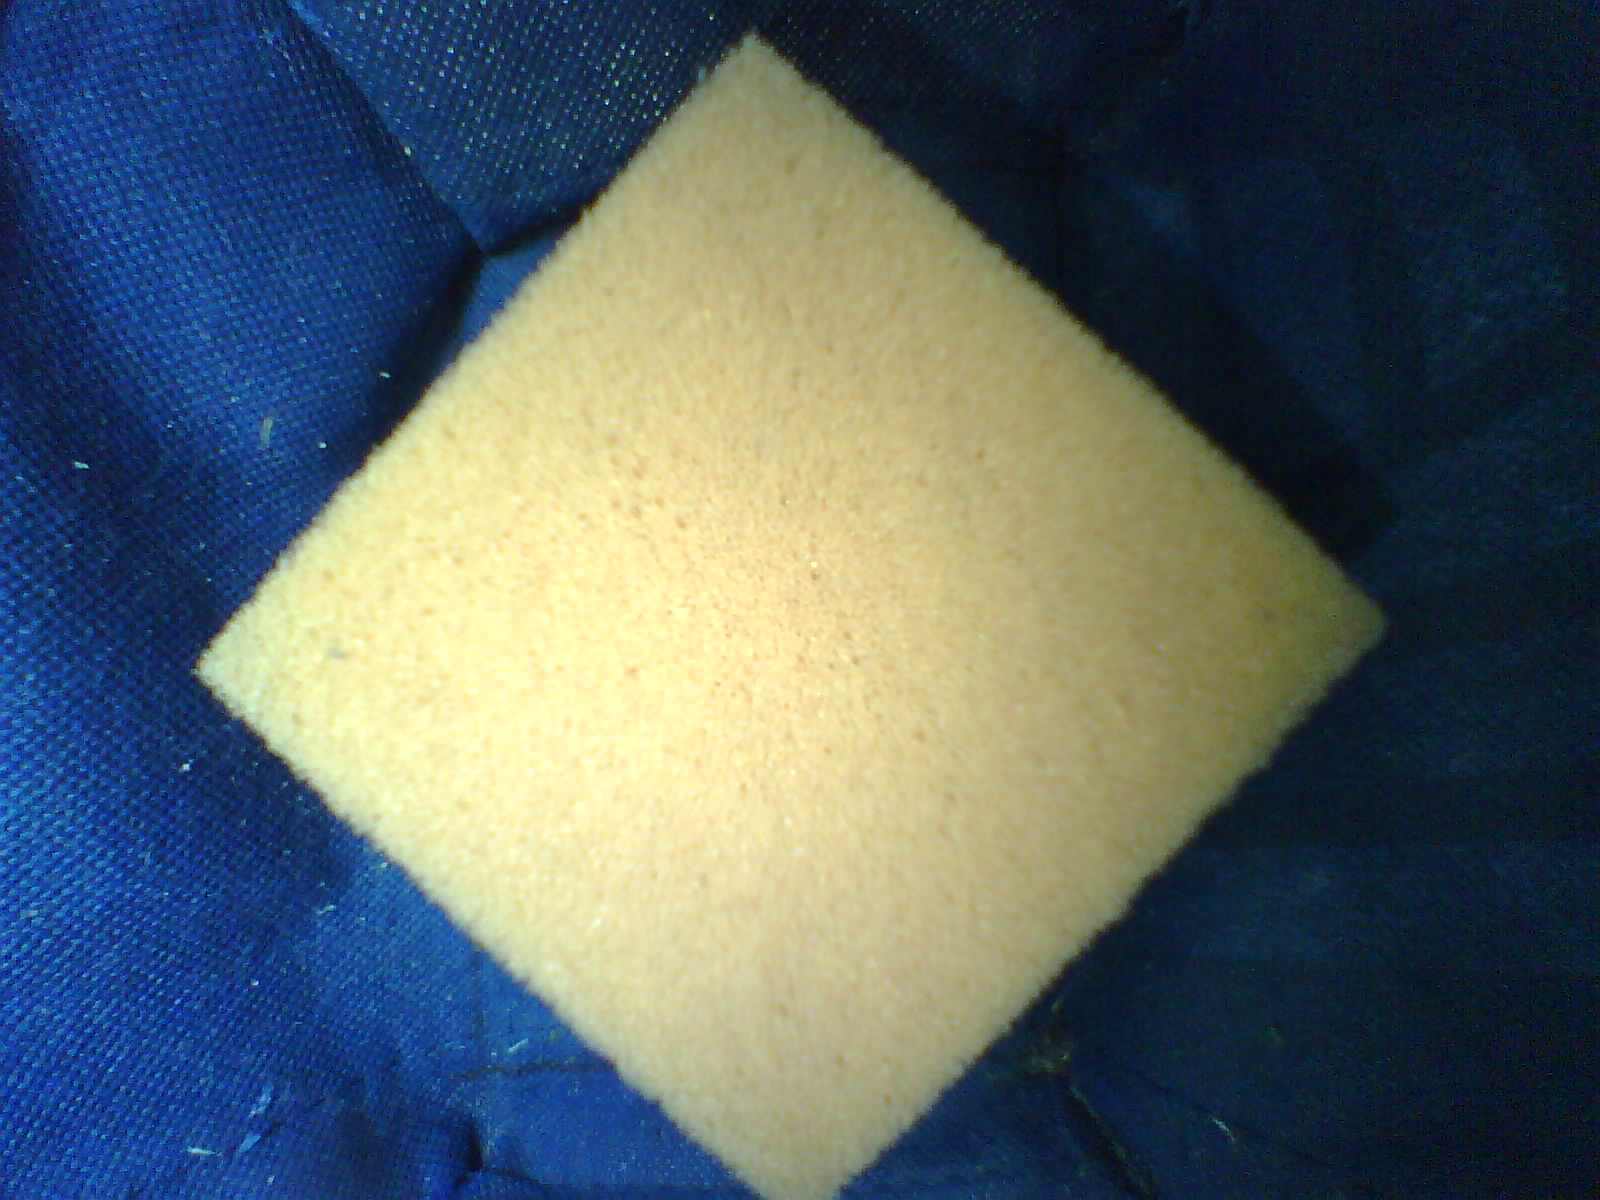cube-soft: (141, 0, 1425, 1200)
